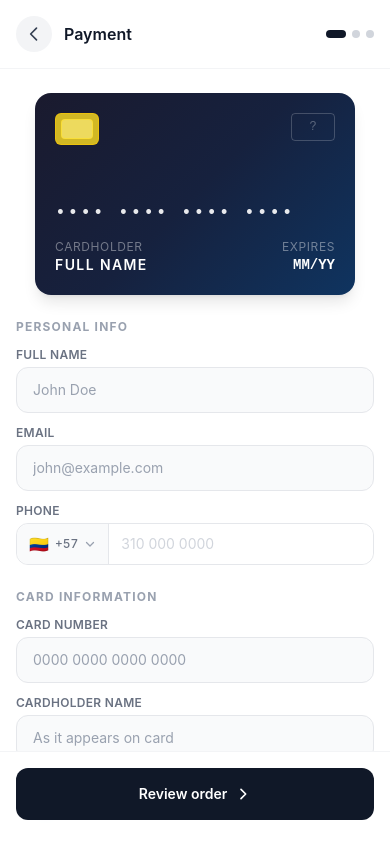
Test case: StepCardDelivery component › shows card number validation error for short card number
The image size is (390, 844).
In the field with placeholder "0000 0000 0000 0000": (195, 660) [16, 637, 374, 683], type "1234"
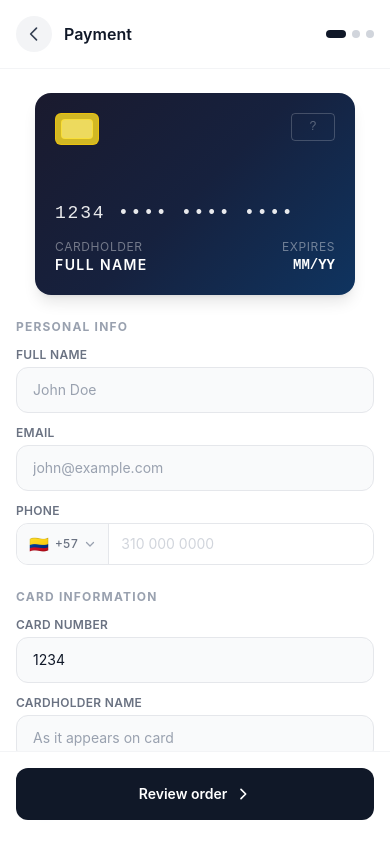
Click the button "Review order": (195, 794) [16, 768, 374, 820]
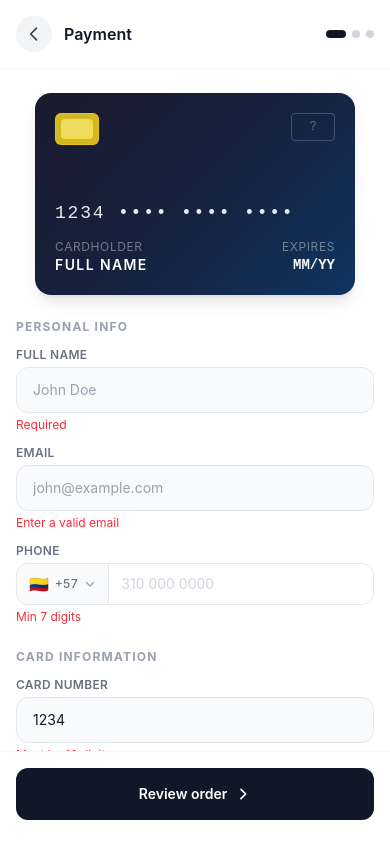
Check: the text "Must be 16 digits" is shown, box [16, 747, 112, 762]
